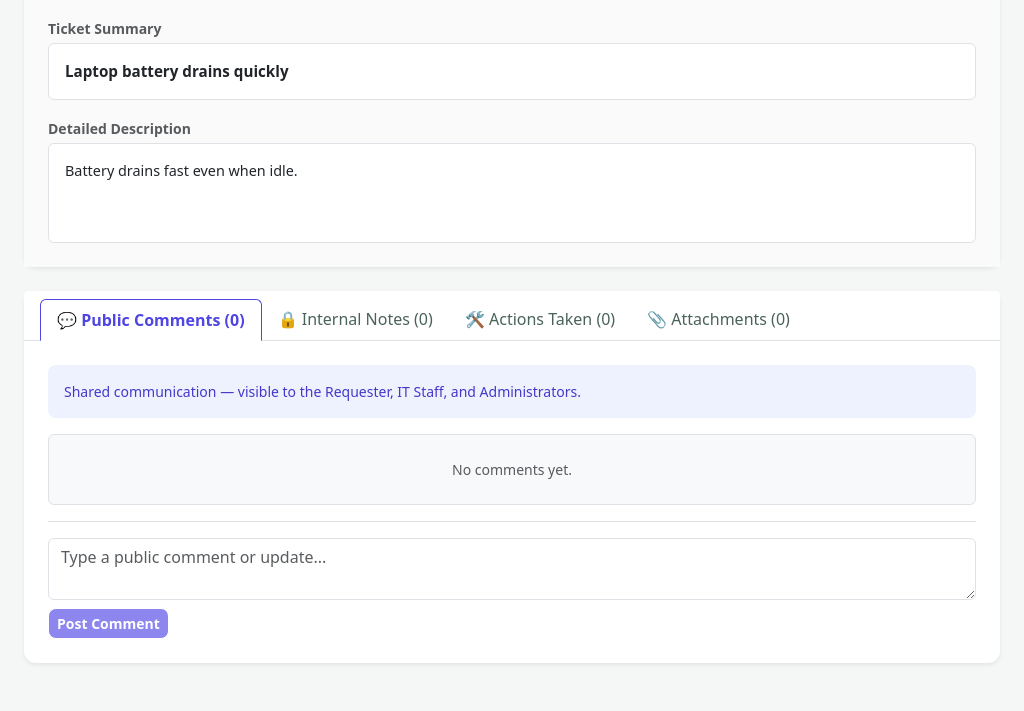
Test: StaffTicketDetail UI Tests (Lab 3 - Issue 5) › a failed Public Comment post shows an inline error message
(page scrolled)
Type "Hello" into the text box with placeholder "Type a public comment or update..." at (512, 569), box [48,538,976,600]
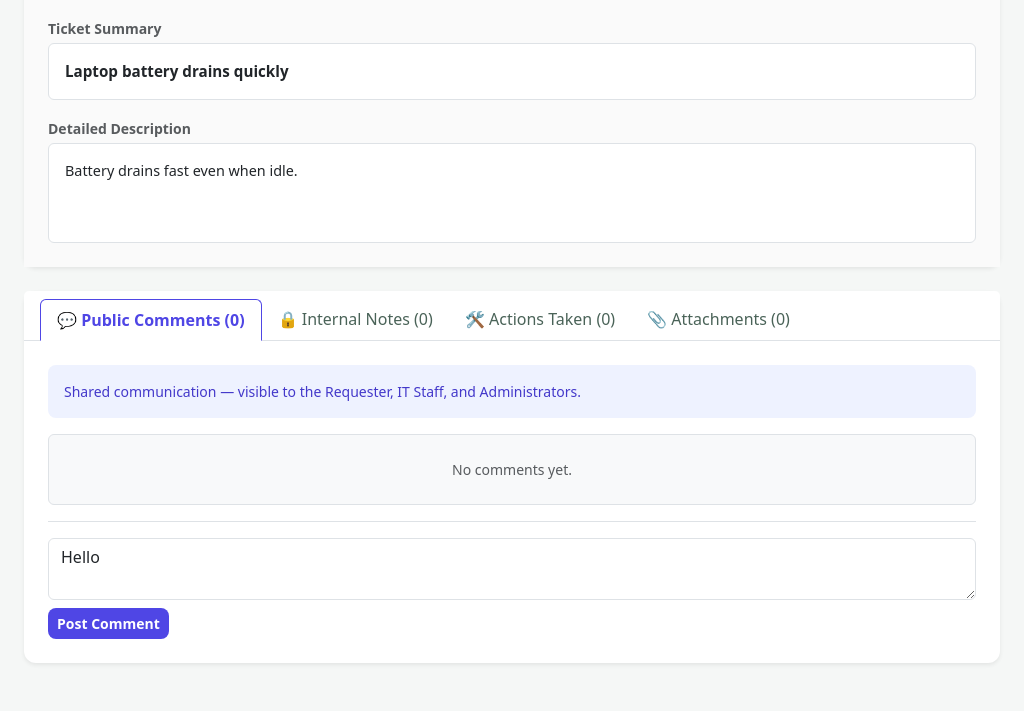
Click the button "Post Comment" at (108, 624), box [48,608,169,639]
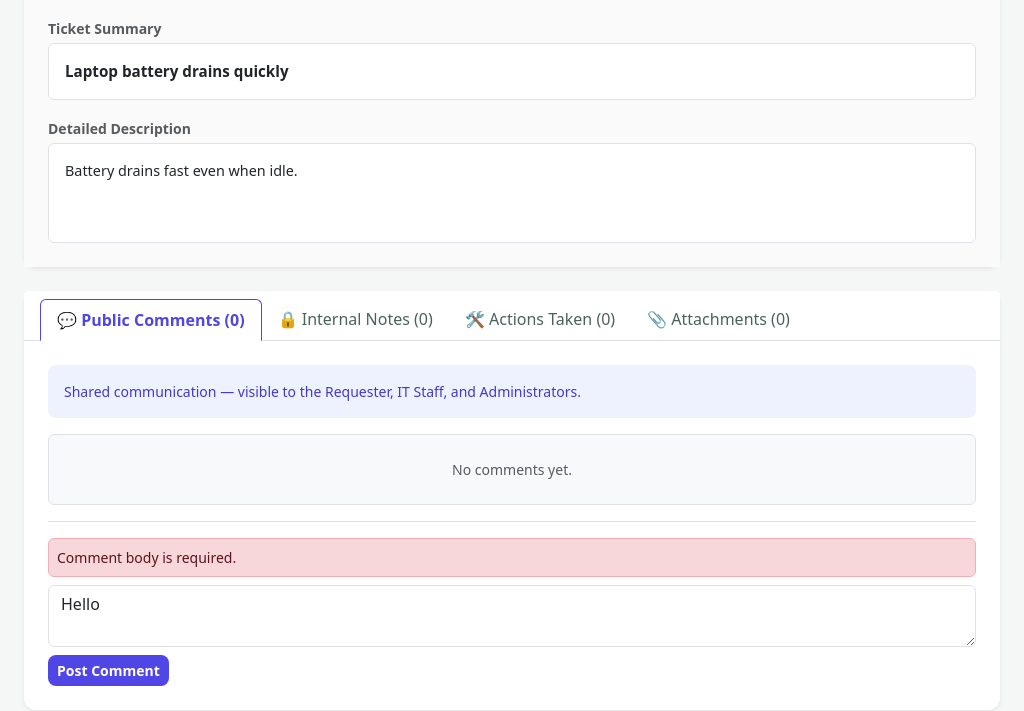
Expected: the text "Comment body is required." is shown, [48,538,976,577]
